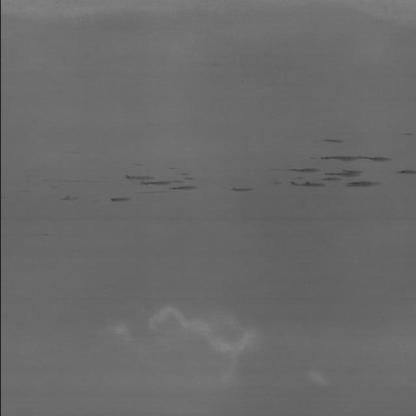oil_spot: (280, 139, 408, 194), (89, 168, 195, 204), (224, 185, 257, 195)
